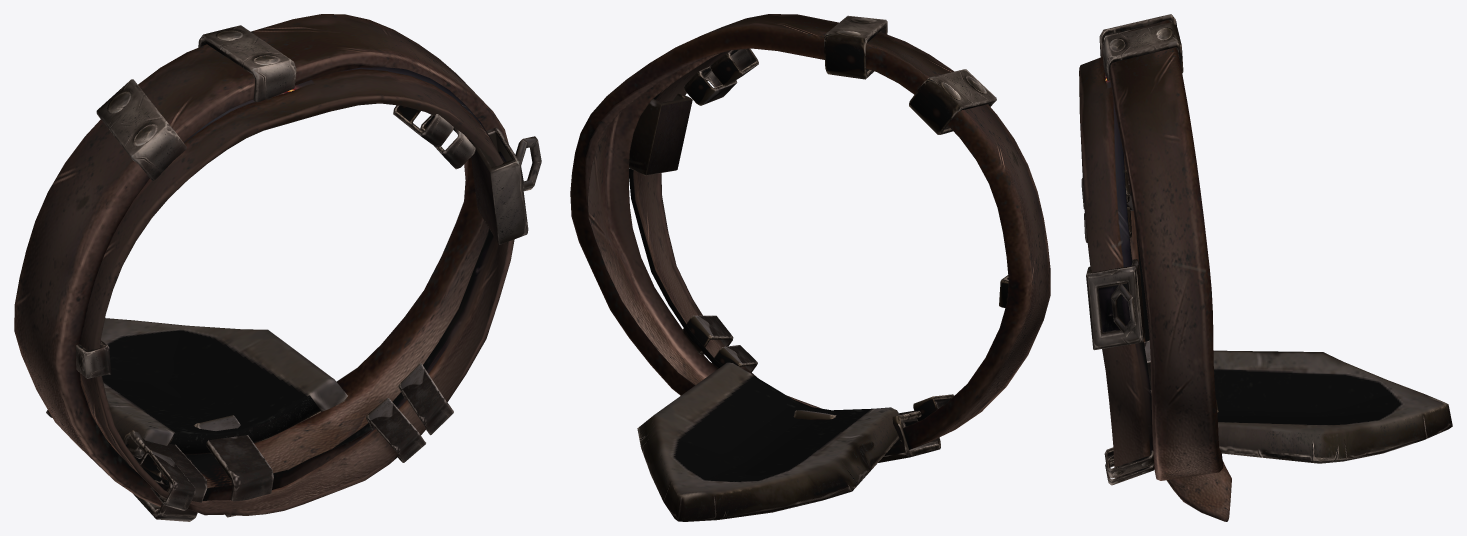
File: sm_dwarf_scortched_belt.gltf
3 renders of one model, left to right at view 1: azimuth 30°, elevation 25°; view 2: azimuth 150°, elevation 25°; view 3: azimuth 270°, elevation 25°, orthographic. The views are drawn at different scales.
Parts seen in each view (by area): view 1: sm_dwarf_scortched_belt; view 2: sm_dwarf_scortched_belt; view 3: sm_dwarf_scortched_belt.
Part boxes in pixels (box(x1,y1,x2,y2)): sm_dwarf_scortched_belt: box(14, 14, 541, 521); sm_dwarf_scortched_belt: box(570, 14, 1050, 521); sm_dwarf_scortched_belt: box(1079, 14, 1452, 521).
Size of the model in its own units: 60.07 by 55.02 by 43.8.
1 material, 1 textured.
